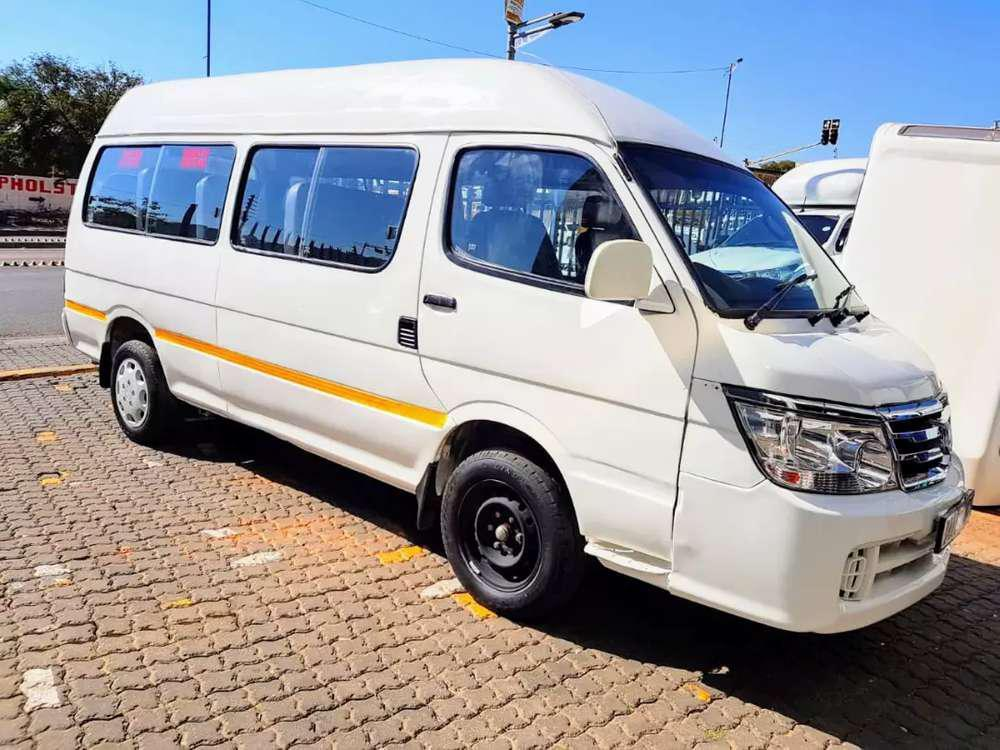van: (61, 52, 980, 662)
